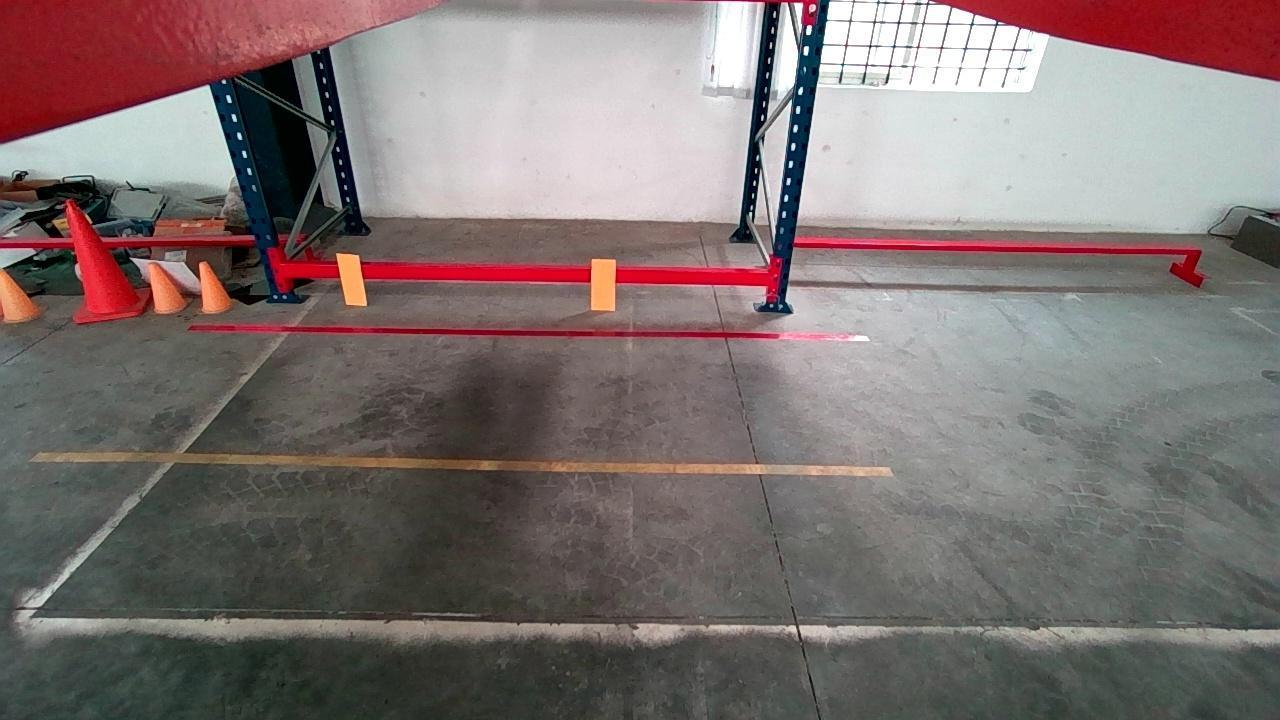h_rack: (284, 263, 770, 283)
orange_strip: (335, 252, 369, 305), (588, 255, 617, 310)
red_line: (183, 320, 877, 342)
yellow_line: (28, 450, 901, 477)
